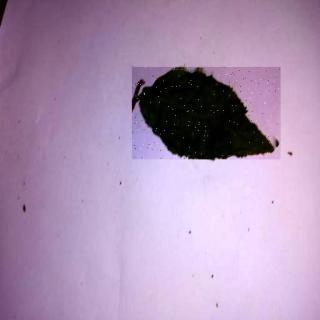Bird Eye Spot: (133, 68, 283, 160)
